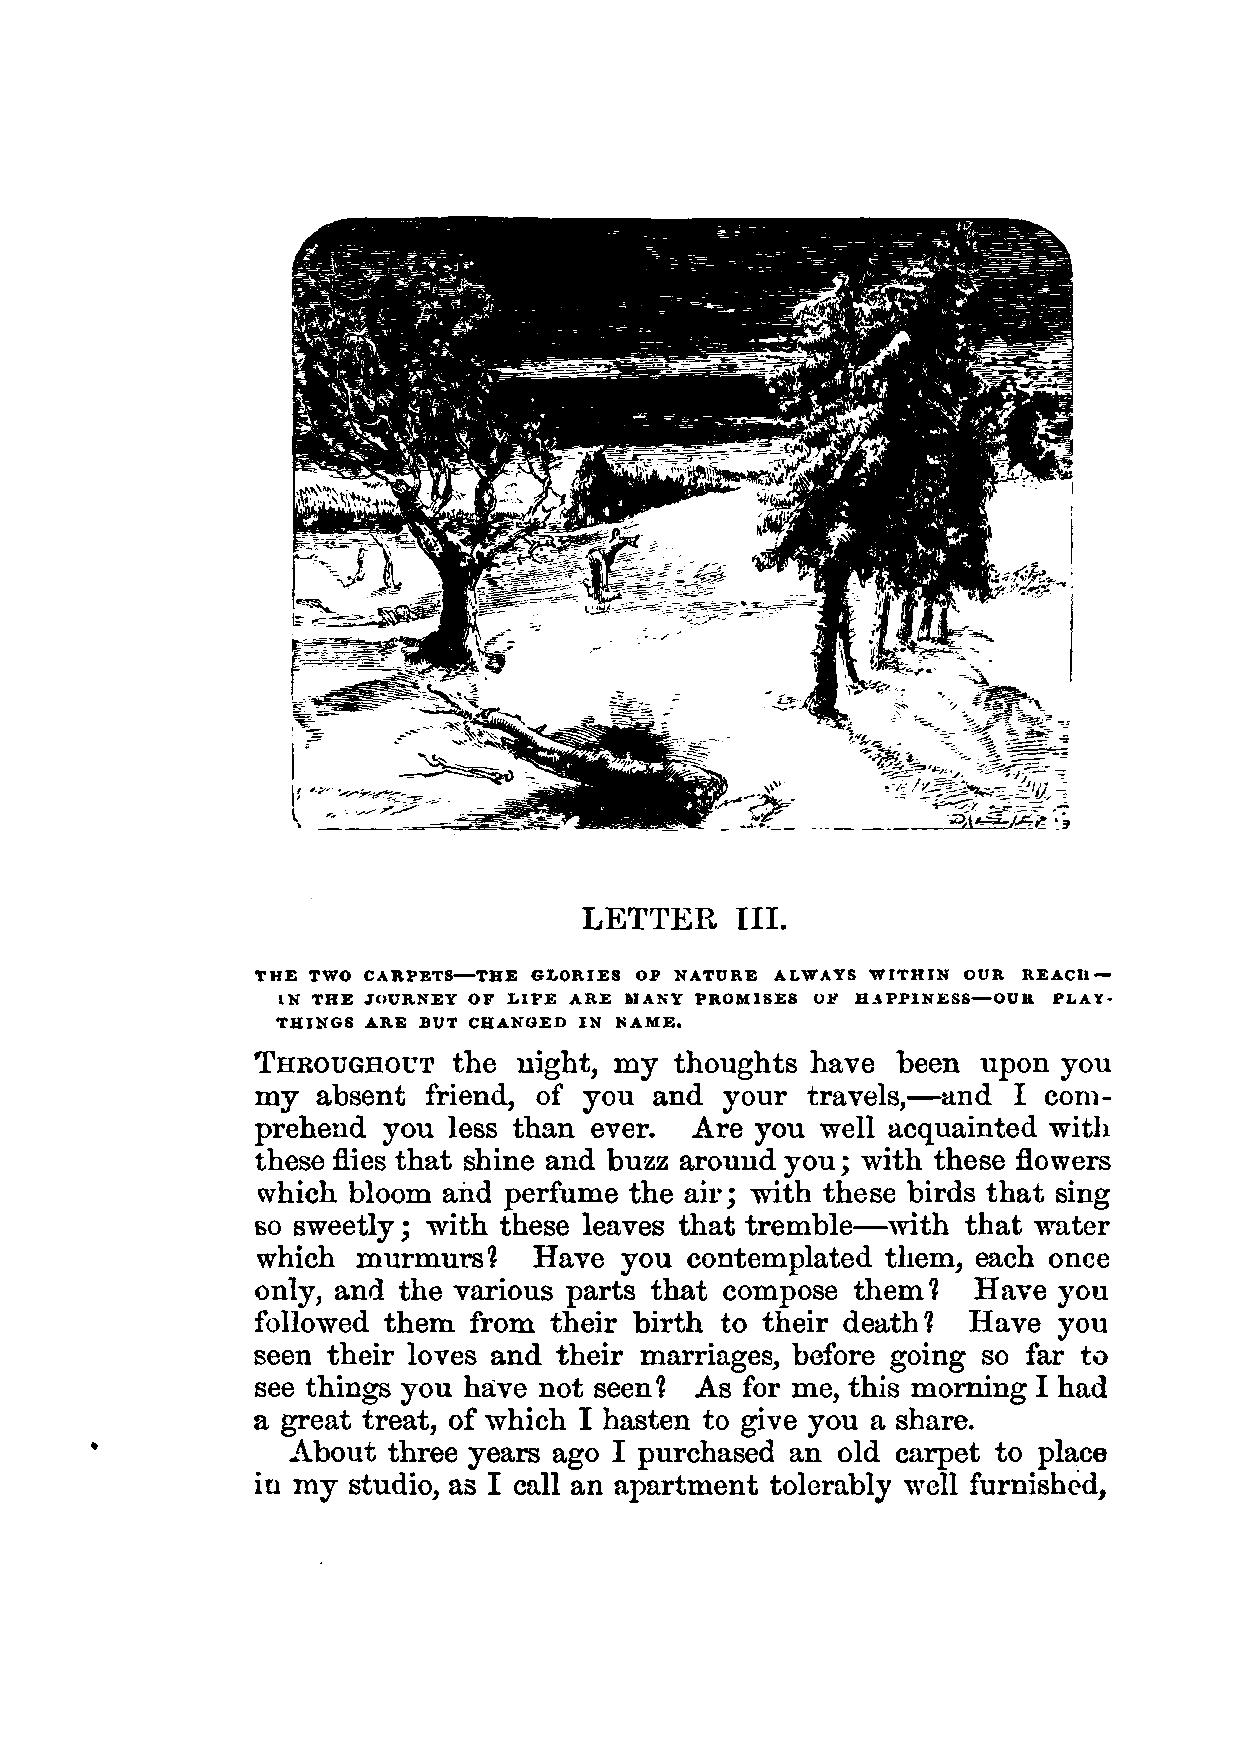chapter: (577, 903, 790, 934)
content: (250, 965, 1113, 1506)
